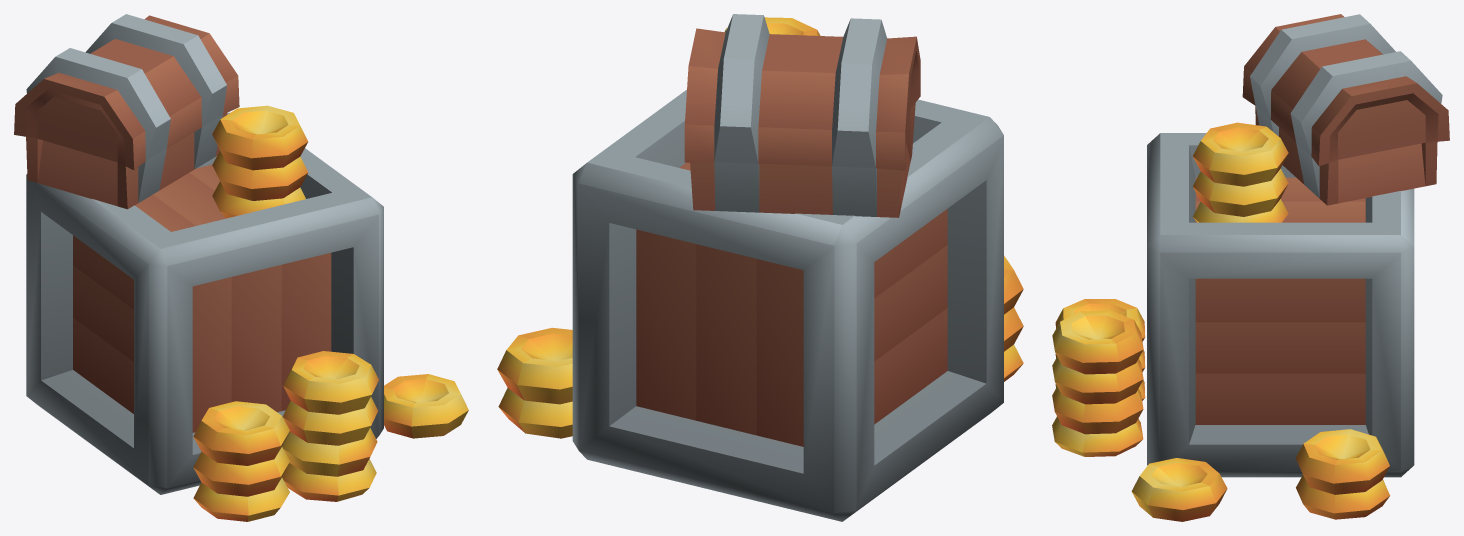
The model's file is box_small_decorated.gltf.
3 renders of one model, left to right at view 1: azimuth 30°, elevation 25°; view 2: azimuth 150°, elevation 25°; view 3: azimuth 270°, elevation 25°, orthographic. The views are drawn at different scales.
Parts seen in each view (by area): view 1: box_small_decorated; view 2: box_small_decorated; view 3: box_small_decorated.
Boxes of the visible parts, x1,y1,x2,y2 form: box_small_decorated: (14,14,468,521); box_small_decorated: (497,14,1023,521); box_small_decorated: (1052,14,1449,521).
Bounding box in the file's own units: 1.49 × 1.48 × 1.49.
1 material, 1 textured.
